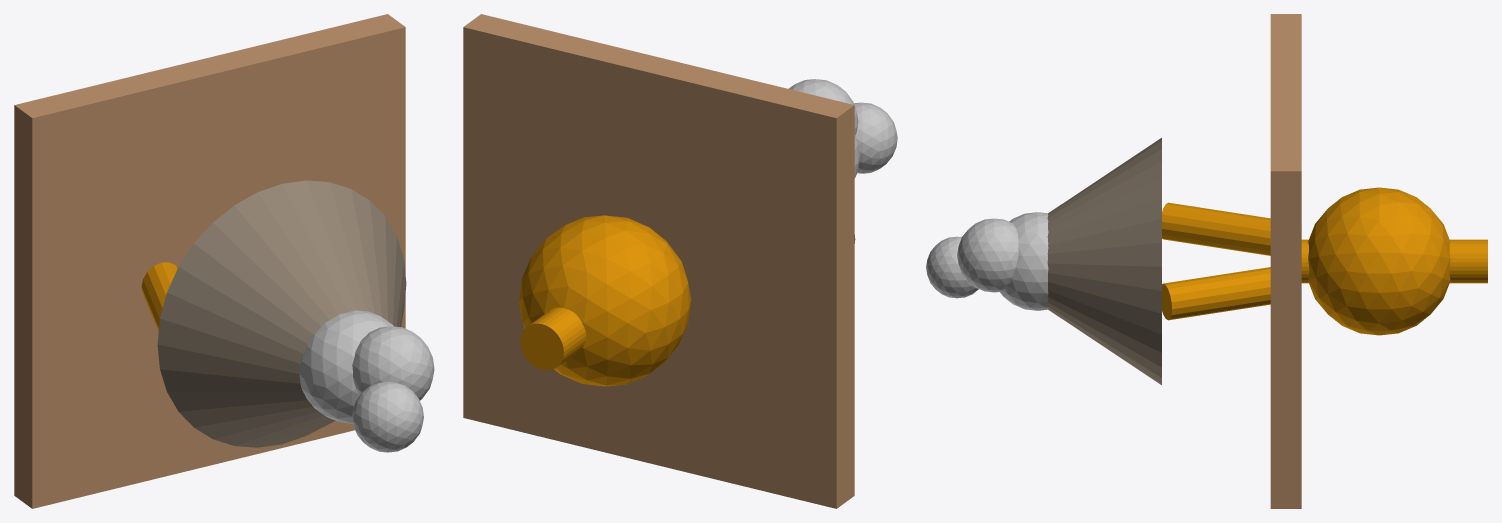
The model's file is volcano.glb.
3 views of the same model, side by side, from view 1: azimuth 30°, elevation 25°; view 2: azimuth 150°, elevation 25°; view 3: azimuth 270°, elevation 25° (orthographic). The views are drawn at different scales.
Visible parts, largest first — view 1: world; view 2: world; view 3: world.
Boxes of the visible parts, box(x1,y1,x2,y2) form: world: box(14, 14, 434, 508); world: box(463, 14, 897, 508); world: box(926, 14, 1487, 508).
Bounding box in the file's own units: 6 × 6 × 9.05.
